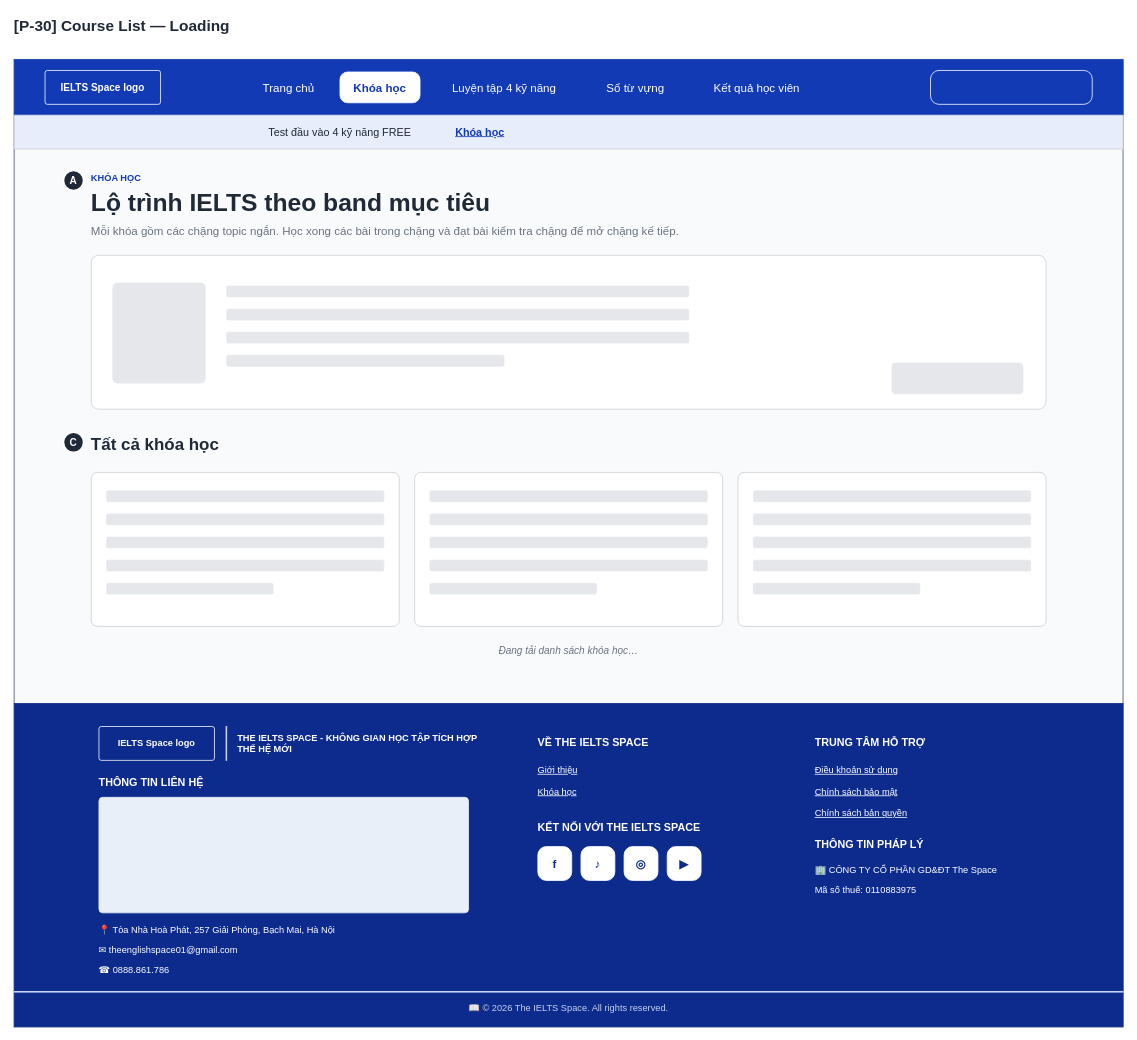
This 1137x1040 diagram has some shape labels left out. Each missing label, with the box of its shape:
◯ Học viên · 30 Points ▾: (930, 70, 1092, 104)
📍 The IELTS Space Mở trong Maps ↗: (98, 797, 469, 913)
